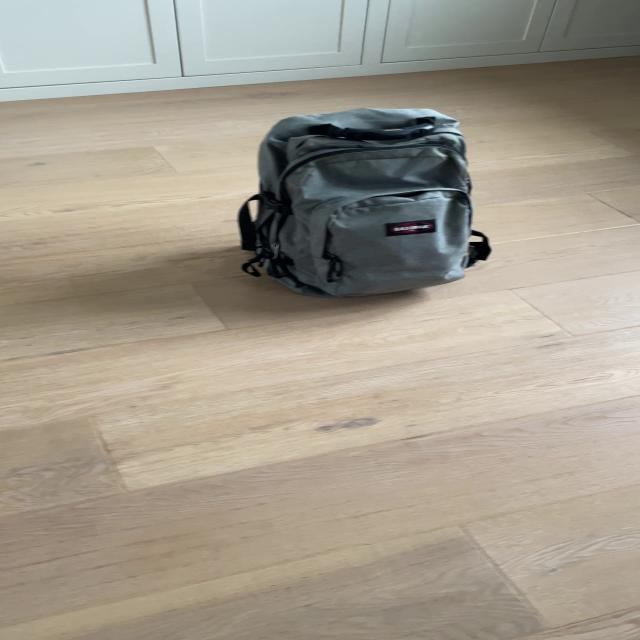backpack: (229, 97, 495, 304)
